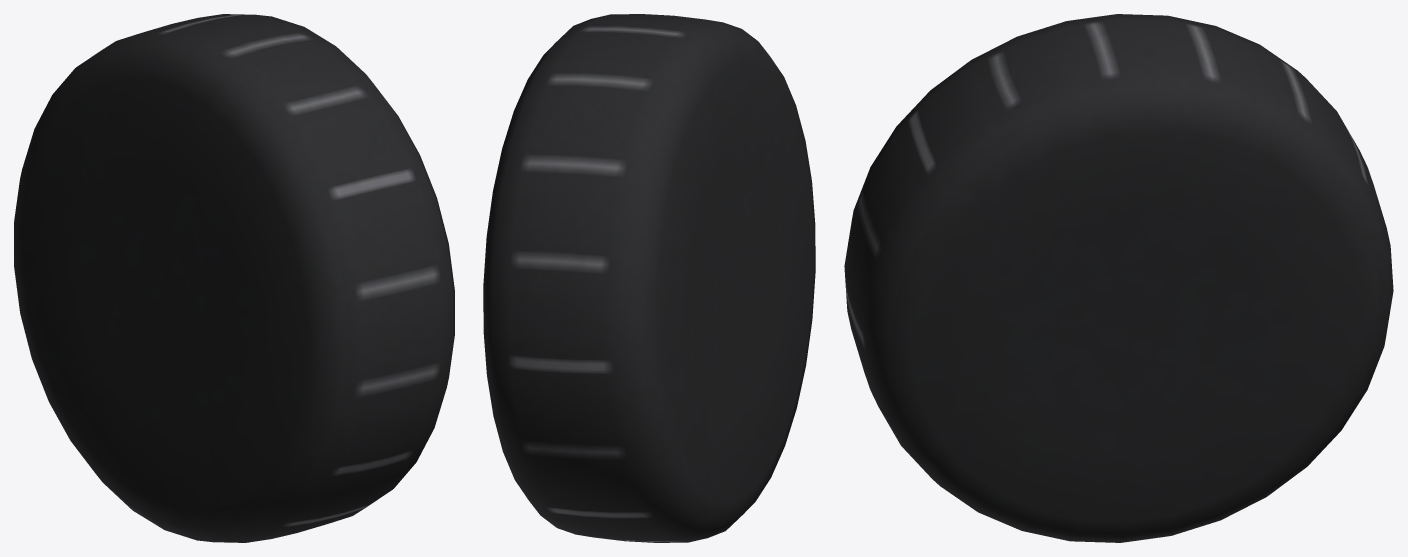
Rendered from trackpad_scroll_wheel.obj.
3 views of the same model, side by side, from view 1: azimuth 30°, elevation 25°; view 2: azimuth 150°, elevation 25°; view 3: azimuth 270°, elevation 25° (orthographic). The views are drawn at different scales.
Visible parts, largest first — view 1: r_trackpad_scroll_wheel; view 2: r_trackpad_scroll_wheel; view 3: r_trackpad_scroll_wheel.
Boxes of the visible parts, x1,y1,x2,y2 form: r_trackpad_scroll_wheel: (14, 14, 454, 542); r_trackpad_scroll_wheel: (483, 14, 815, 542); r_trackpad_scroll_wheel: (844, 14, 1393, 542).
Bounding box in the file's own units: 0.0116 × 0.0229 × 0.023.
Materials: 1 (1 with a texture image).
